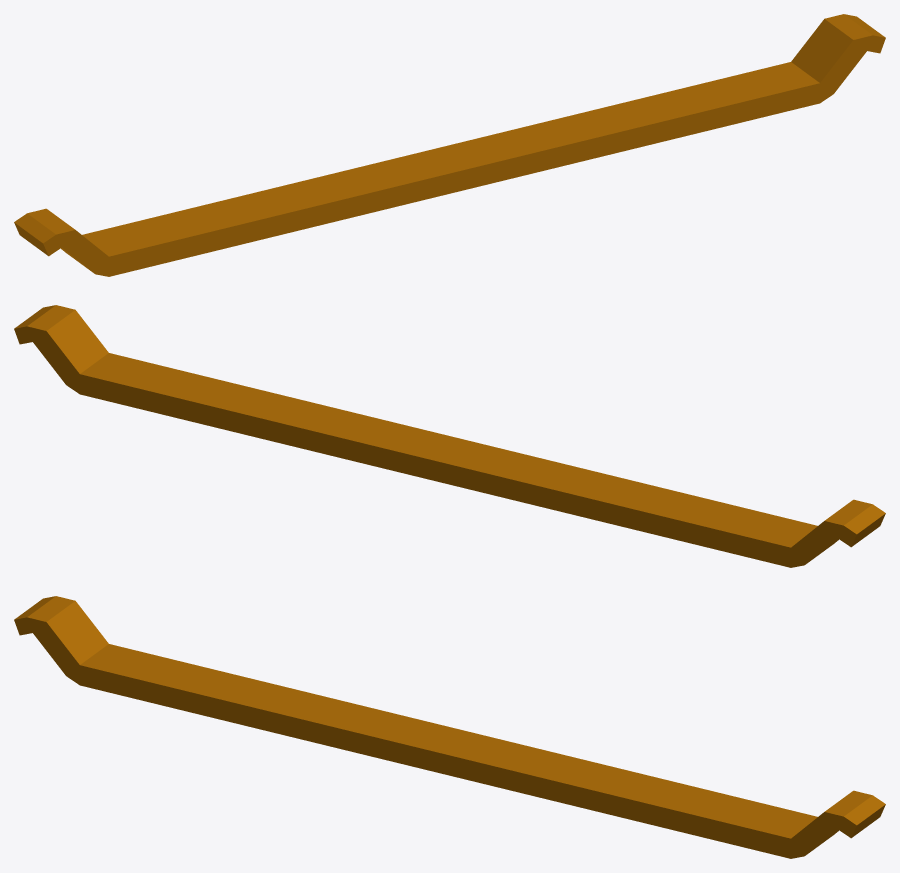
The model's file is Banner Top.fbx.
3 renders of one model, top to bottom at view 1: azimuth 30°, elevation 25°; view 2: azimuth 150°, elevation 25°; view 3: azimuth 330°, elevation 25°, orthographic.
Visible parts, largest first — view 1: Banner Top; view 2: Banner Top; view 3: Banner Top.
Boxes of the visible parts, x1,y1,x2,y2 form: Banner Top: (14,14,885,276); Banner Top: (14,305,885,567); Banner Top: (14,596,885,858).
Size of the model in its own units: 711 by 44.52 by 42.54.
